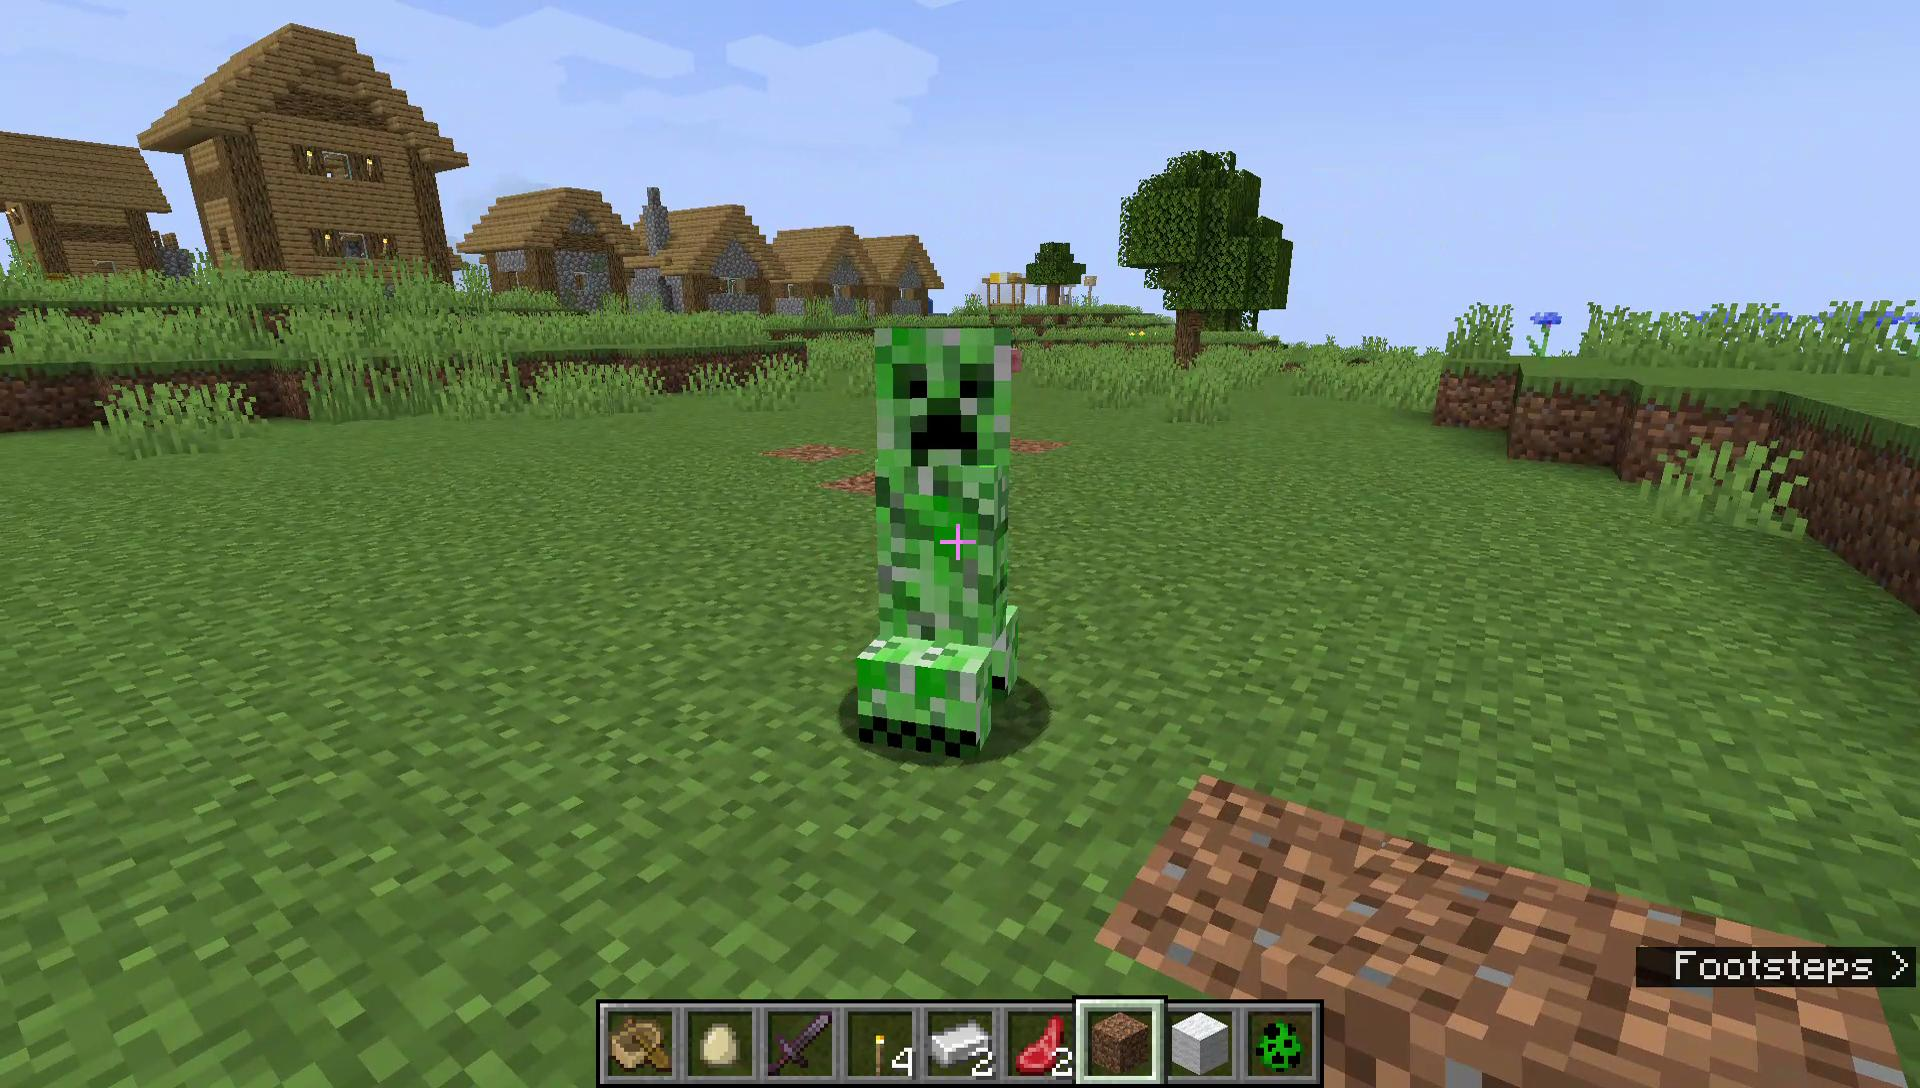creeper: (851, 318, 1027, 771)
